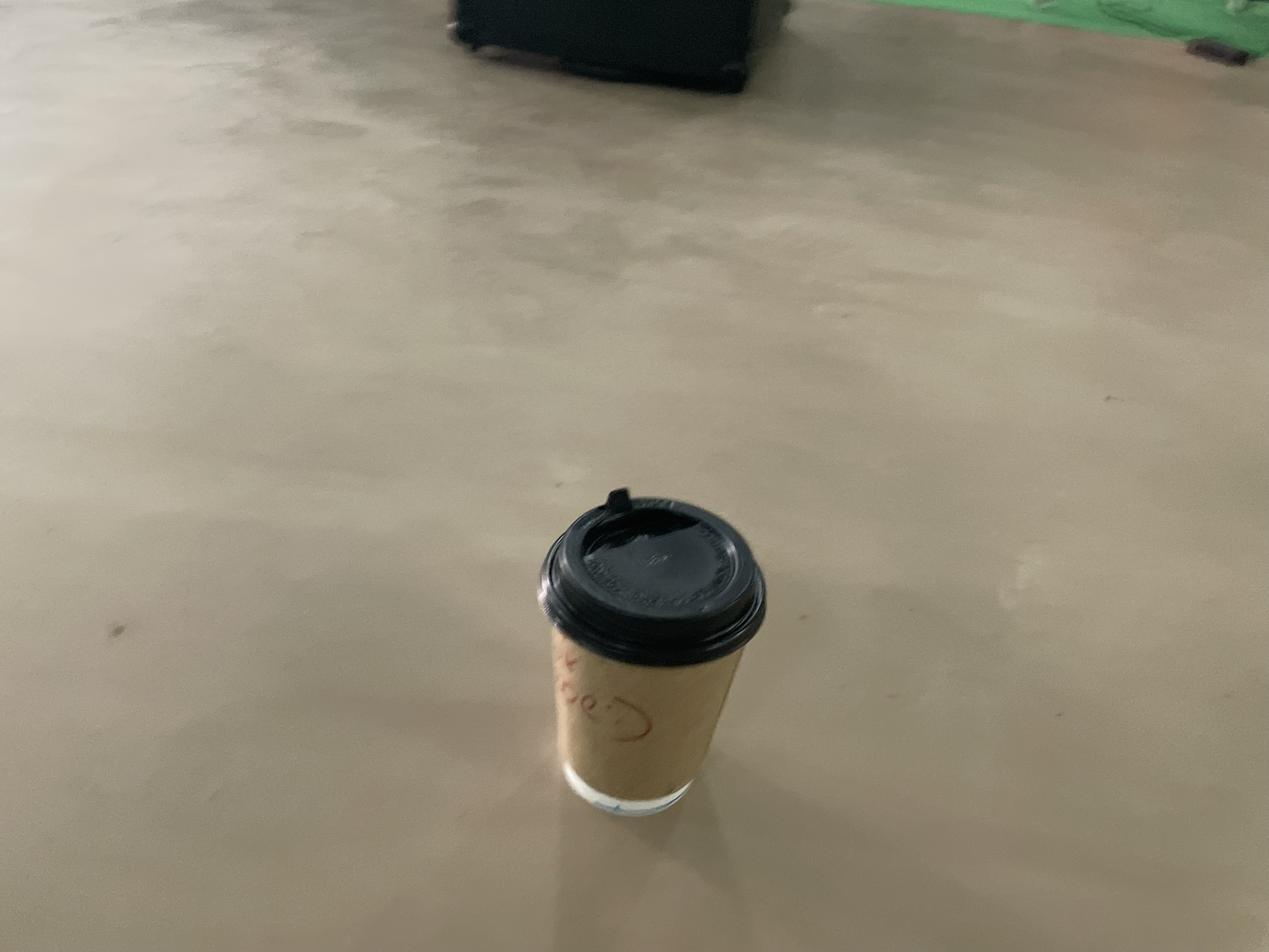cup: (537, 487, 767, 816)
